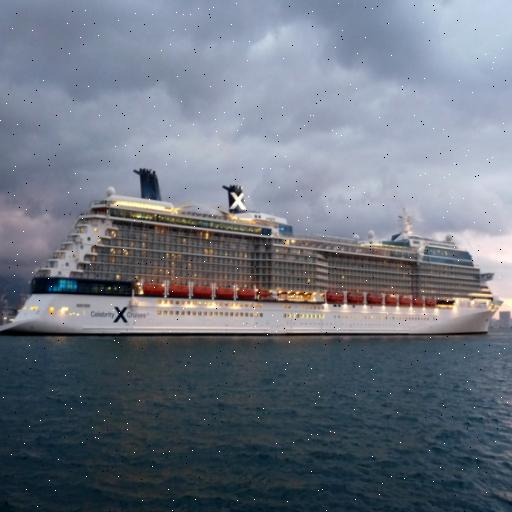cruises: (1, 166, 507, 347)
